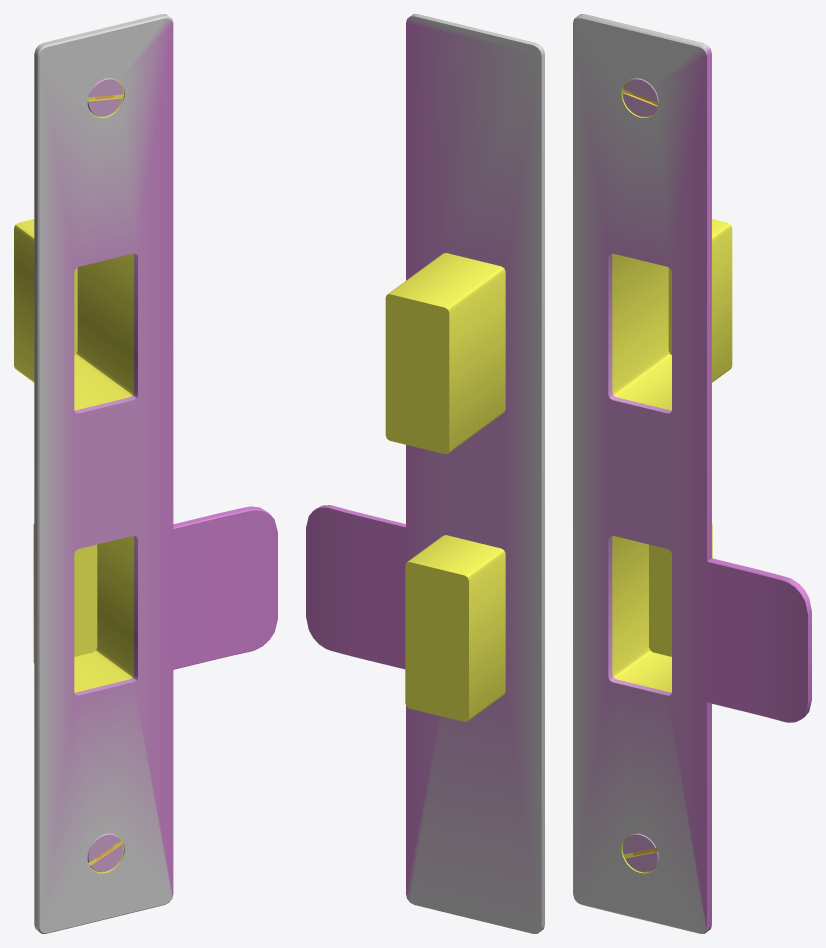
Rendered from Kit_Lock_StrikeMortise.fbx.
The picture shows the model from 3 angles, left to right: view 1: azimuth 30°, elevation 25°; view 2: azimuth 150°, elevation 25°; view 3: azimuth 330°, elevation 25°; orthographic projection.
Parts seen in each view (by area): view 1: Kit_Lock_StrikeMortise_LOD0; view 2: Kit_Lock_StrikeMortise_LOD0; view 3: Kit_Lock_StrikeMortise_LOD0.
Part boxes in pixels (bbox=[...]): Kit_Lock_StrikeMortise_LOD0: bbox=[14, 14, 277, 933]; Kit_Lock_StrikeMortise_LOD0: bbox=[306, 14, 544, 933]; Kit_Lock_StrikeMortise_LOD0: bbox=[573, 14, 811, 933].
Size of what is drawn, in the model's own units: 0.056 by 0.2 by 0.0254.
